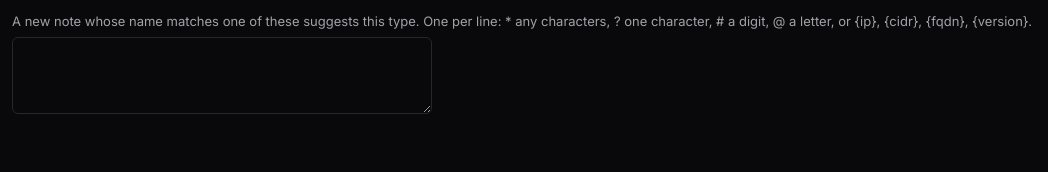
Scenario: NamePatternsSection › a 422 from the server shows its detail
In the text box named "Name patterns": x=222, y=76 [12, 37, 432, 114], type "SRV-*"
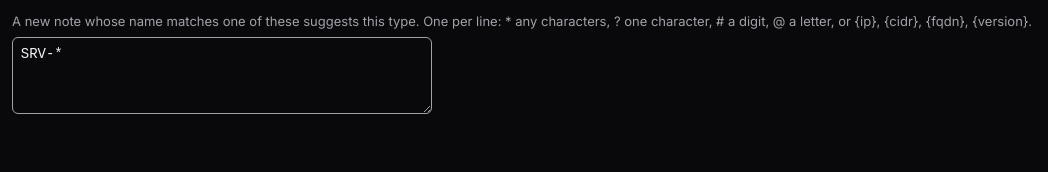
Press Tab
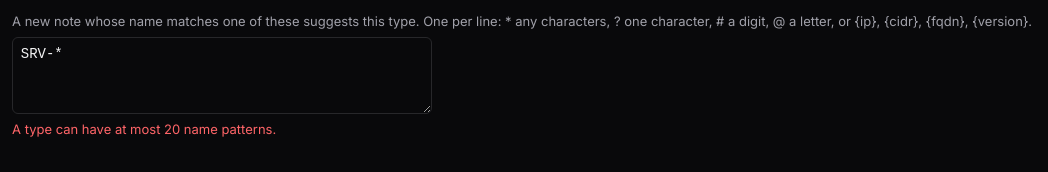
Expected: the message reads "A type can have at most 20 name patterns.", [12, 121, 276, 137]
